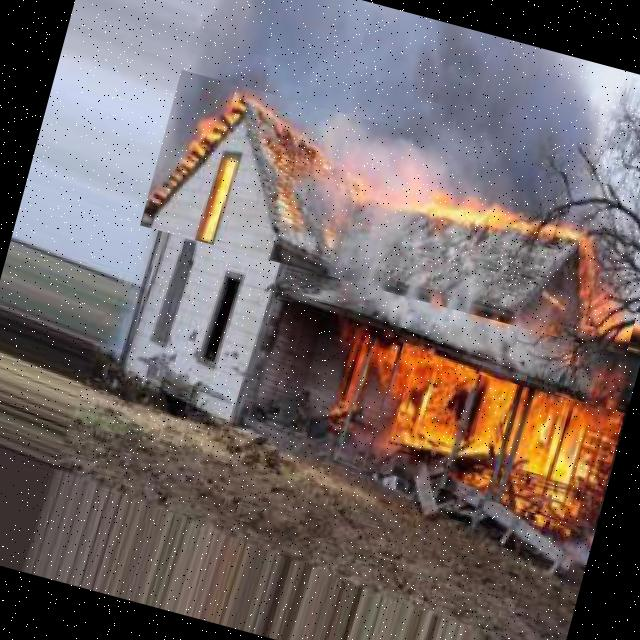fire: (139, 69, 640, 355), (302, 335, 624, 529)
